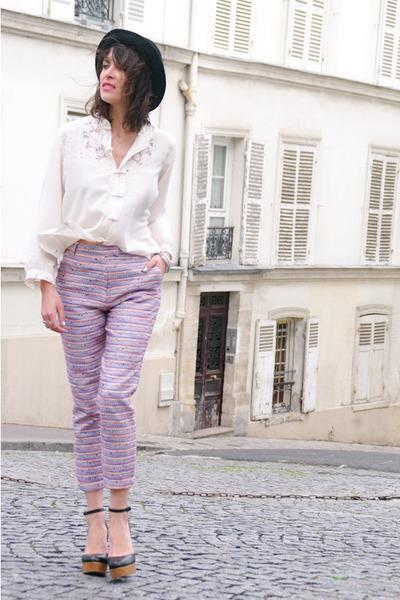hat: (98, 29, 165, 107)
pants: (40, 239, 160, 491)
shirt: (23, 112, 207, 283)
shoe: (84, 556, 126, 583)
